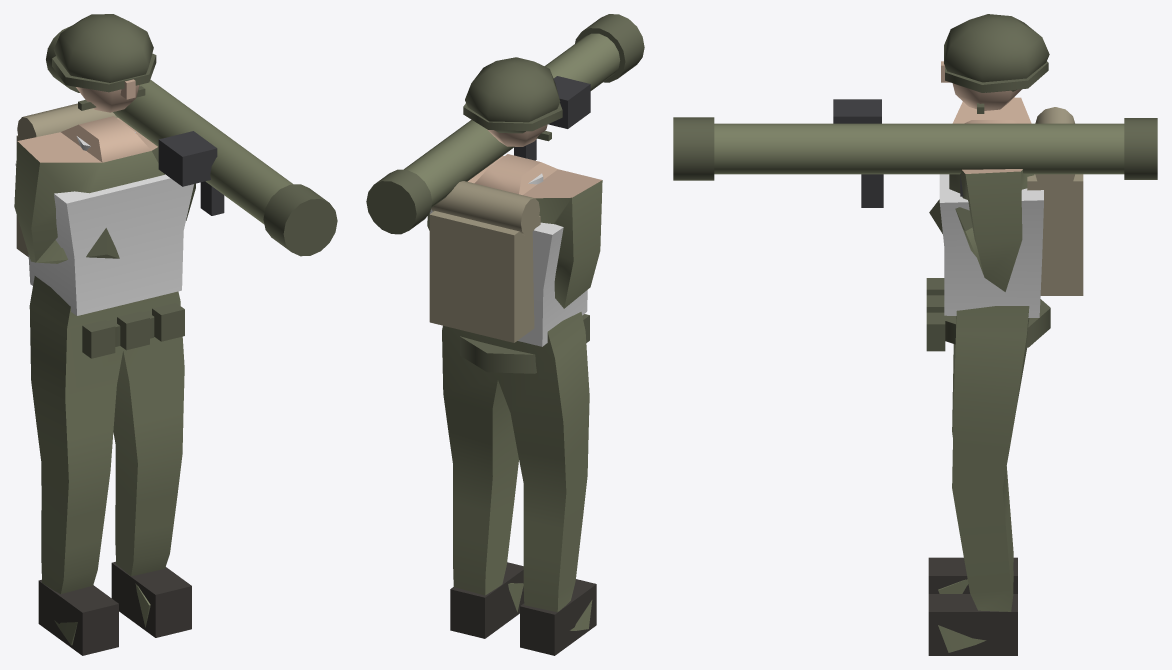
The model's file is stinger_lod1.glb.
3 views of the same model, side by side, from view 1: azimuth 30°, elevation 25°; view 2: azimuth 150°, elevation 25°; view 3: azimuth 270°, elevation 25° (orthographic). The views are drawn at different scales.
Visible parts, largest first — view 1: body; view 2: body; view 3: body.
Part boxes in pixels (left/top/right/bottom): body: left=14, top=14, right=337, bottom=655; body: left=366, top=14, right=644, bottom=655; body: left=673, top=14, right=1157, bottom=655.
Size of the model in its own units: 0.518 by 1.8 by 1.3.
